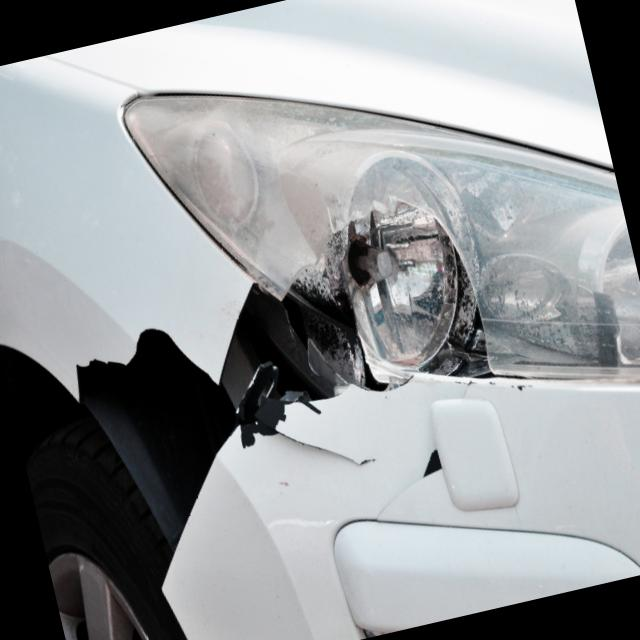Dechirure: (42, 253, 416, 616)
Phare abime: (250, 152, 540, 473)
